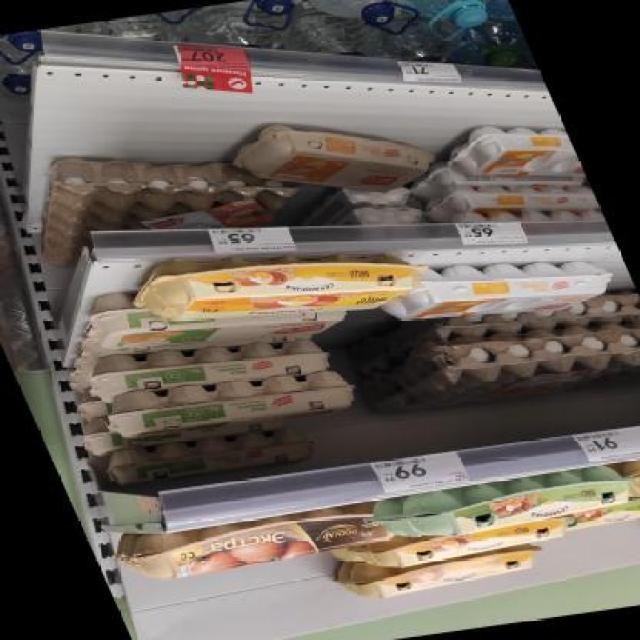Egg: (120, 229, 443, 343), (216, 104, 448, 208), (107, 501, 390, 585), (366, 464, 639, 545), (76, 327, 338, 405), (98, 365, 360, 443), (378, 250, 625, 332), (95, 424, 325, 491), (619, 449, 640, 499)
